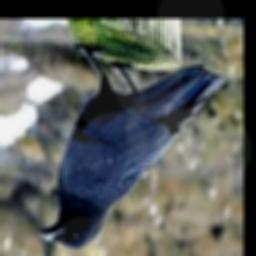Crow: (40, 42, 227, 250)
